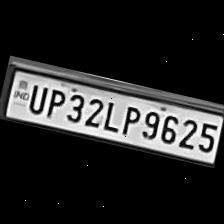2: (80, 92, 108, 130), (175, 114, 200, 151)
3: (61, 87, 88, 124)
5: (193, 118, 221, 154)
6: (155, 109, 181, 145)
9: (136, 106, 163, 142)
L: (100, 97, 124, 132)
P: (41, 84, 68, 122), (116, 102, 142, 136)
U: (23, 80, 50, 116)
